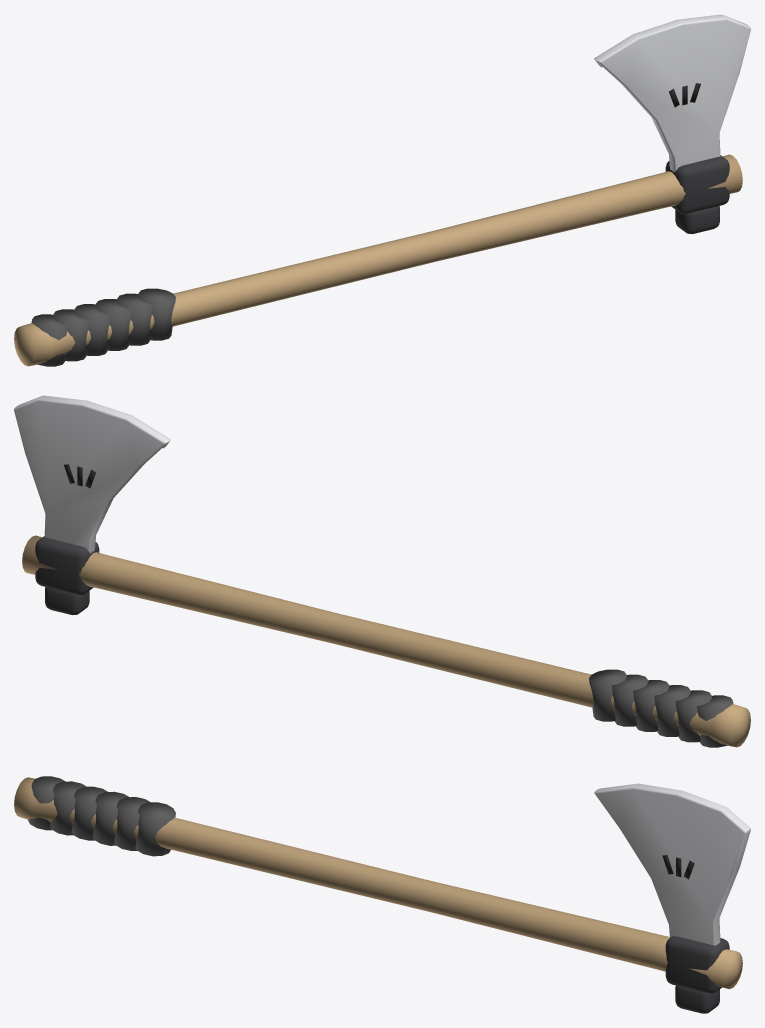
Rendered from SM_VikingAxe.glb.
The picture shows the model from 3 angles, top to bottom: view 1: azimuth 30°, elevation 25°; view 2: azimuth 150°, elevation 25°; view 3: azimuth 330°, elevation 25°; orthographic projection.
Parts seen in each view (by area): view 1: SM_VikingAxe; view 2: SM_VikingAxe; view 3: SM_VikingAxe.
Part boxes in pixels (left/top/right/bottom): SM_VikingAxe: left=14, top=14, right=750, bottom=366; SM_VikingAxe: left=14, top=395, right=750, bottom=747; SM_VikingAxe: left=14, top=776, right=750, bottom=1013.
Bounding box in the file's own units: 0.8226 × 0.228 × 0.042.
